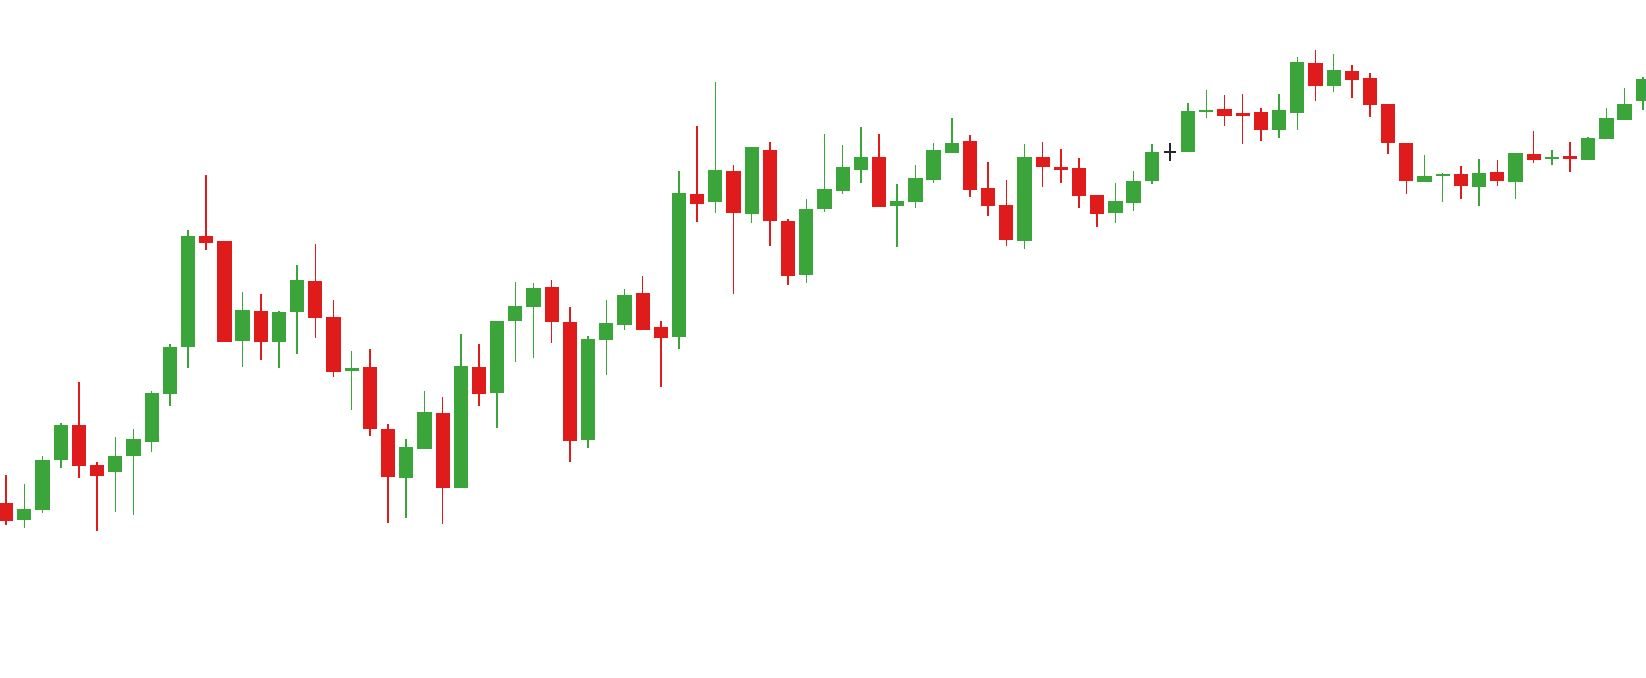buy: (486, 320, 598, 460)
